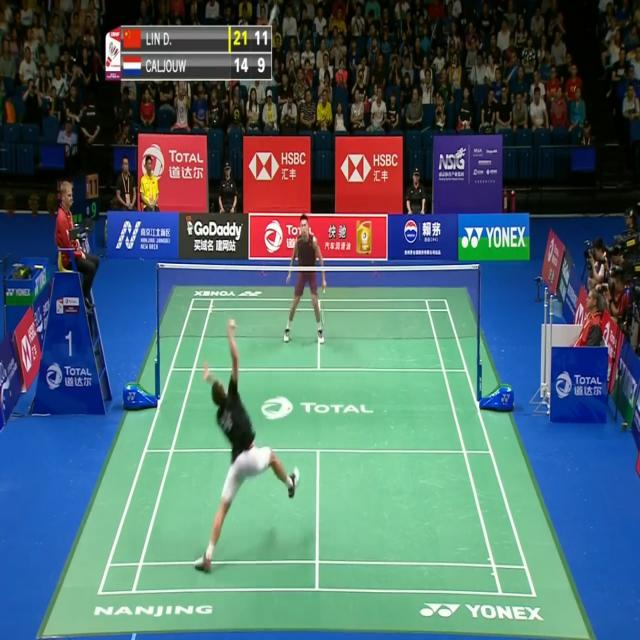Player1: (190, 308, 302, 576)
Player2: (281, 204, 331, 356)
